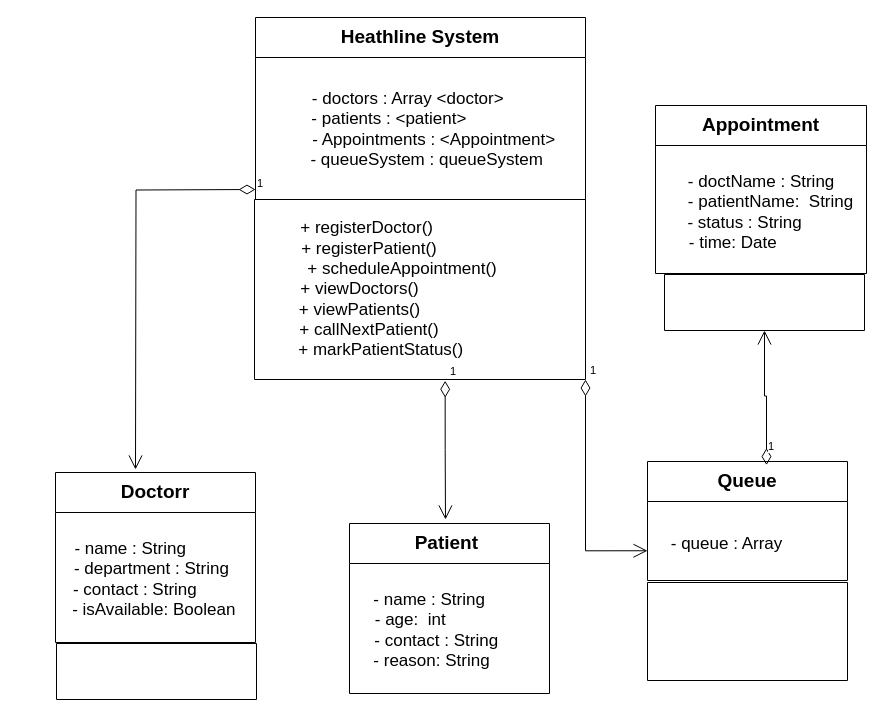
This 884x717 diagram has some shape labels left out. The centre of each missing label's shape, as x and y in pixels:
"+ addToQueue() + getNextPatient() + updatePatientStatus()" goes at (x=747, y=631).
"+ updateStatus()" goes at (x=764, y=302).
"+availability ()" goes at (x=156, y=671).
